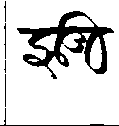e_matra: (63, 10, 105, 27)
